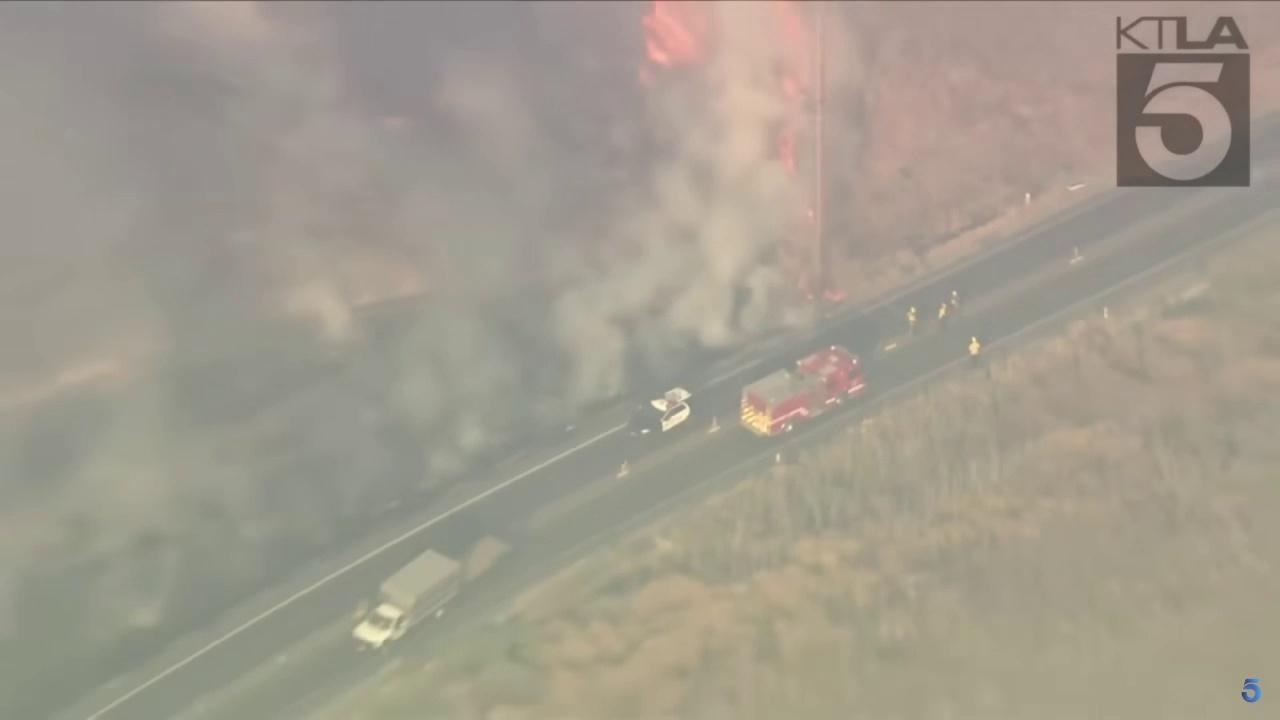fire: (767, 1, 815, 181), (640, 0, 719, 68), (824, 289, 848, 302), (808, 209, 814, 220)
smoke: (0, 0, 875, 720)
